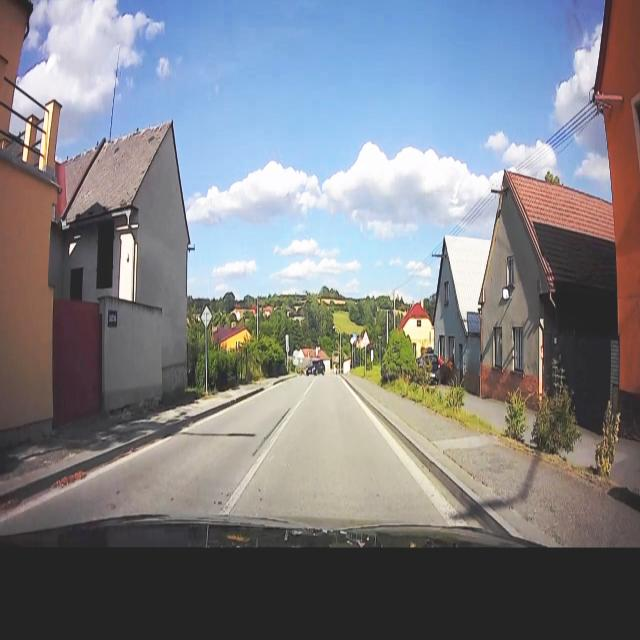Priority road: (350, 337, 354, 345)
